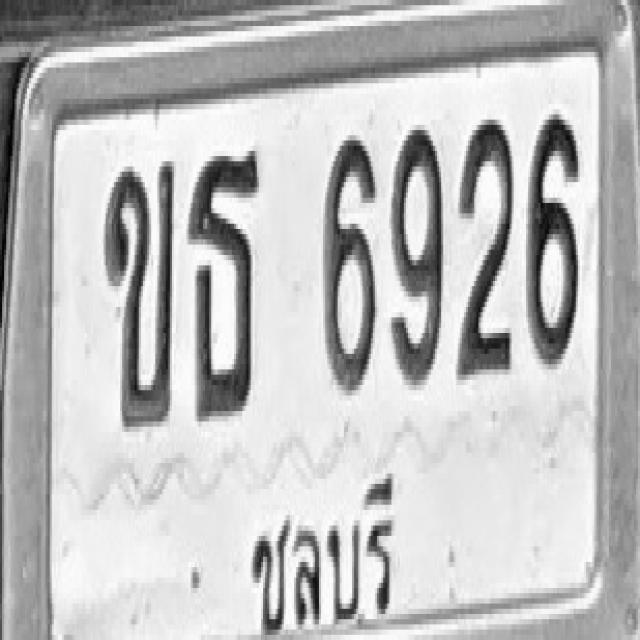11KhorKhai: (104, 154, 174, 424)
2: (457, 112, 512, 372)
33ThorThong: (187, 146, 260, 416)
6: (324, 132, 376, 388), (526, 109, 578, 364)
9: (390, 122, 442, 382)
Chonburi: (242, 463, 414, 640)
